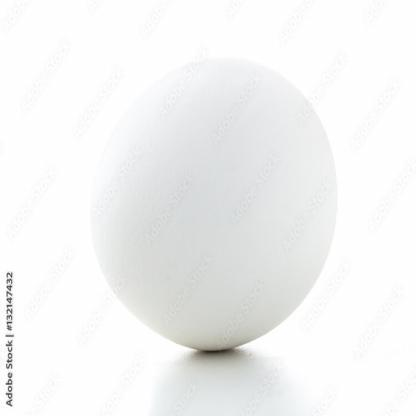egg: (86, 55, 340, 351)
